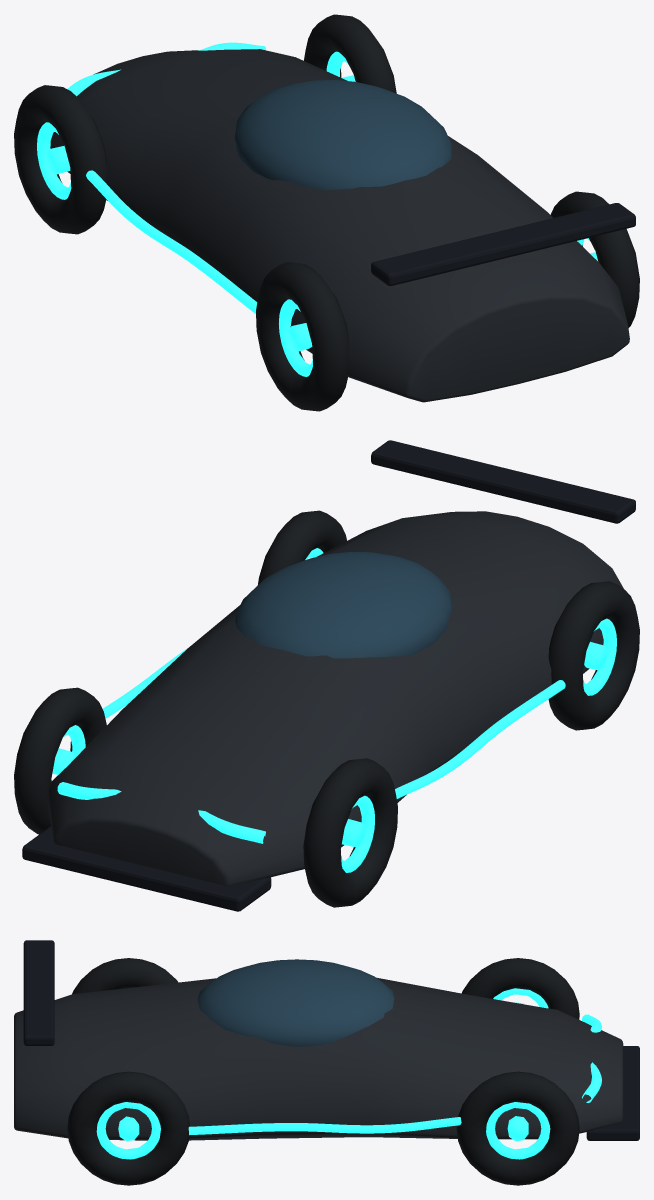
Rendered from Rival01_Wedge_LOD0_Inspection.glb.
The picture shows the model from 3 angles, top to bottom: view 1: azimuth 30°, elevation 25°; view 2: azimuth 150°, elevation 25°; view 3: azimuth 270°, elevation 25°; orthographic projection. The views are drawn at different scales.
Parts seen in each view (by area): view 1: Rival01_Wedge_Body_LOD0, Rival01_Wedge_Wheel_RL_LOD0, Rival01_Wedge_Wheel_FL_LOD0, Rival01_Wedge_Wheel_FR_LOD0, Rival01_Wedge_Wheel_RR_LOD0; view 2: Rival01_Wedge_Body_LOD0, Rival01_Wedge_Wheel_FL_LOD0, Rival01_Wedge_Wheel_RL_LOD0, Rival01_Wedge_Wheel_FR_LOD0, Rival01_Wedge_Wheel_RR_LOD0; view 3: Rival01_Wedge_Body_LOD0, Rival01_Wedge_Wheel_FR_LOD0, Rival01_Wedge_Wheel_RR_LOD0, Rival01_Wedge_Wheel_FL_LOD0, Rival01_Wedge_Wheel_RL_LOD0.
Boxes of the visible parts, box(x1,y1,x2,y2) form: Rival01_Wedge_Body_LOD0: box(50, 42, 635, 402); Rival01_Wedge_Wheel_RL_LOD0: box(256, 262, 349, 411); Rival01_Wedge_Wheel_FL_LOD0: box(14, 85, 107, 234); Rival01_Wedge_Wheel_FR_LOD0: box(304, 14, 396, 93); Rival01_Wedge_Wheel_RR_LOD0: box(550, 191, 639, 327); Rival01_Wedge_Body_LOD0: box(22, 440, 635, 911); Rival01_Wedge_Wheel_FL_LOD0: box(303, 758, 397, 907); Rival01_Wedge_Wheel_RL_LOD0: box(548, 581, 639, 730); Rival01_Wedge_Wheel_FR_LOD0: box(14, 687, 106, 834); Rival01_Wedge_Wheel_RR_LOD0: box(258, 510, 346, 584); Rival01_Wedge_Body_LOD0: box(14, 940, 639, 1140); Rival01_Wedge_Wheel_FR_LOD0: box(456, 1071, 579, 1185); Rival01_Wedge_Wheel_RR_LOD0: box(67, 1071, 189, 1185); Rival01_Wedge_Wheel_FL_LOD0: box(461, 958, 579, 1019); Rival01_Wedge_Wheel_RL_LOD0: box(72, 958, 178, 994).
Bounding box in the file's own units: 2.13 × 1.21 × 4.47.
